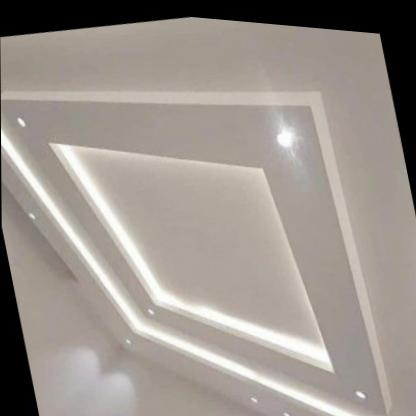Gypsum Board: (0, 20, 396, 416)
